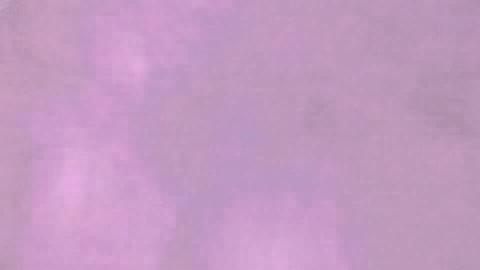tomato: (214, 127, 414, 268), (1, 144, 214, 268), (414, 136, 477, 268)
